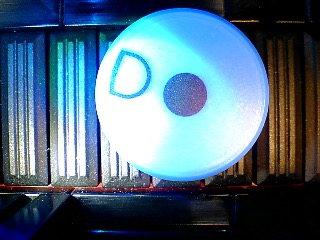BOHOMIPO1: (93, 7, 270, 182)
